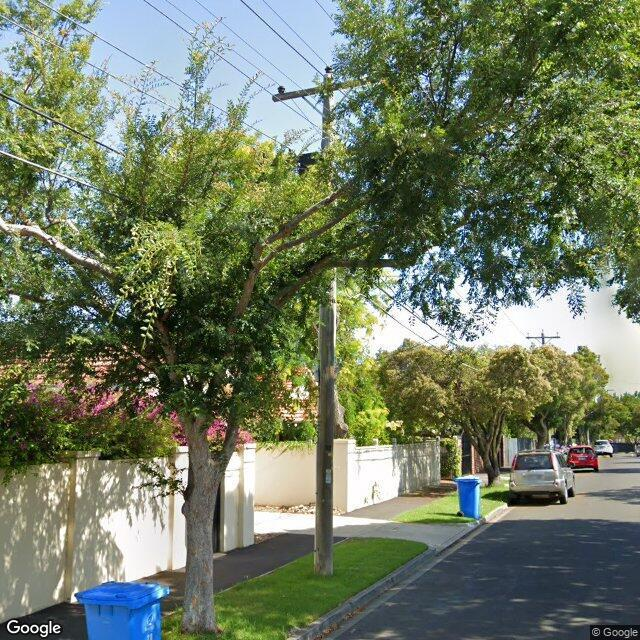HV-transmission: (277, 65, 332, 94), (527, 329, 559, 336)
crossarm: (272, 76, 378, 102), (526, 336, 560, 338)
timber-pole: (313, 74, 336, 576), (541, 333, 545, 346)
